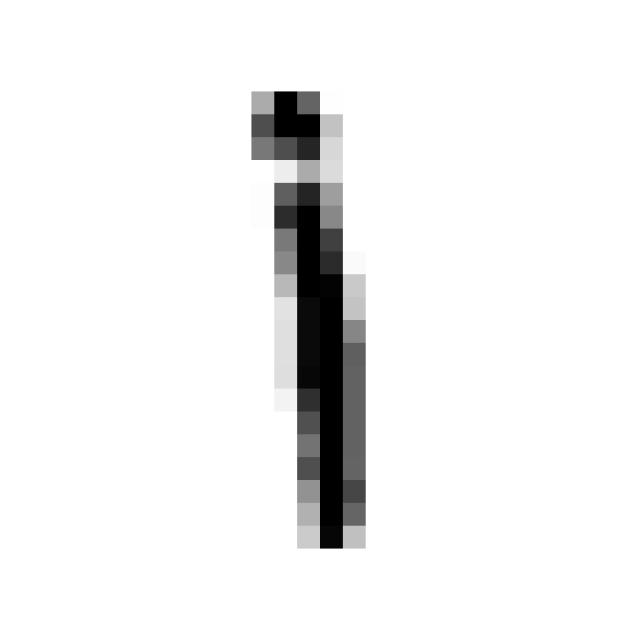1 -one-: (229, 64, 392, 575)
